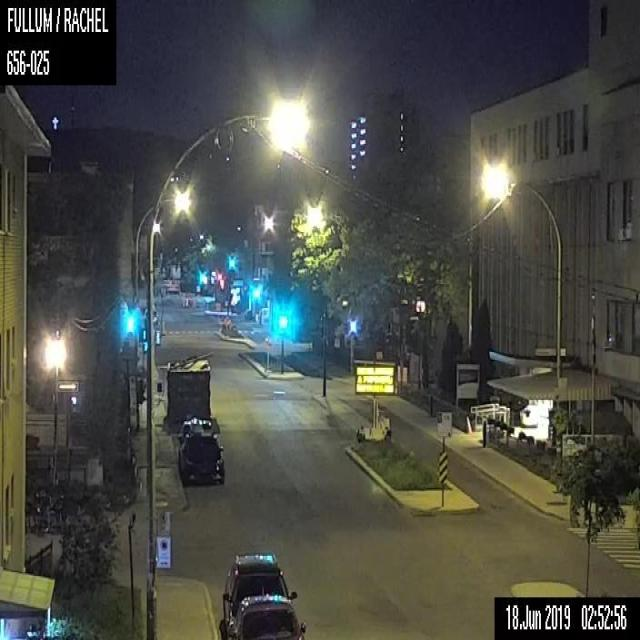construction: (354, 359, 395, 441)
vehicle: (221, 552, 297, 623), (225, 596, 305, 639), (176, 430, 224, 484), (176, 418, 211, 440), (166, 280, 179, 292)
